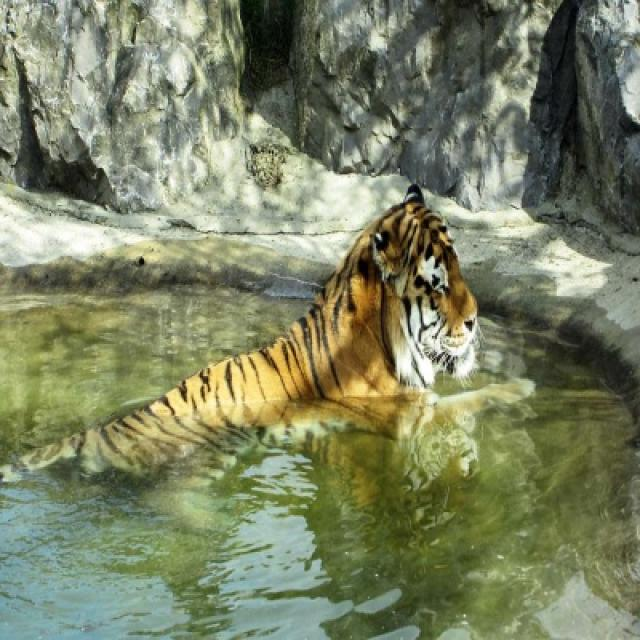Tiger: (146, 189, 477, 407)
